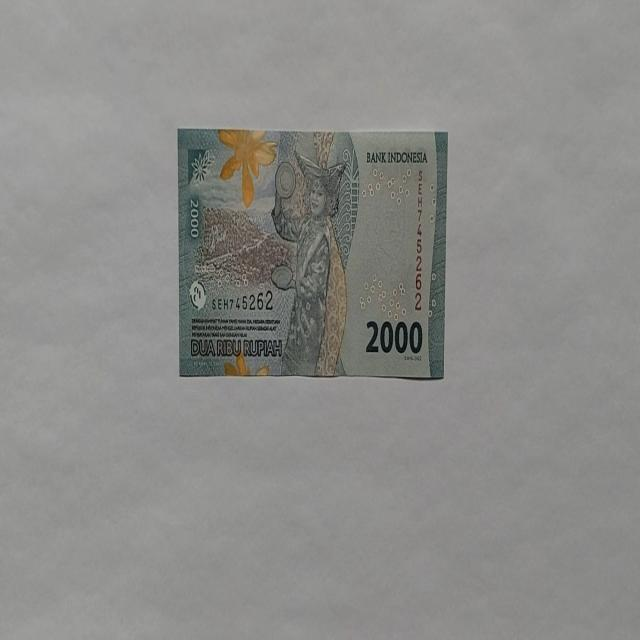dua ribu rupiah: (178, 127, 448, 381), (270, 148, 348, 377), (216, 127, 278, 208)
